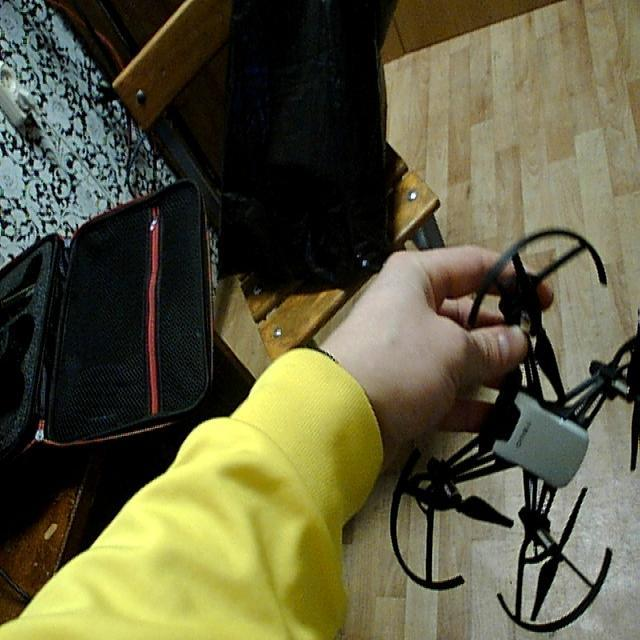drone: (382, 216, 640, 628)
